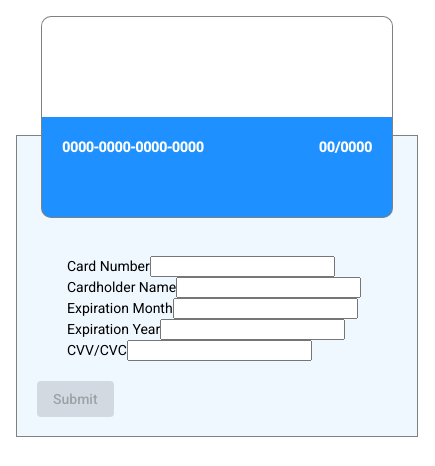
Test: Cardholder Name input › TC01 - when input is noting should show error massage
Click the field with id "name-input": (269, 288) [176,277,361,298]
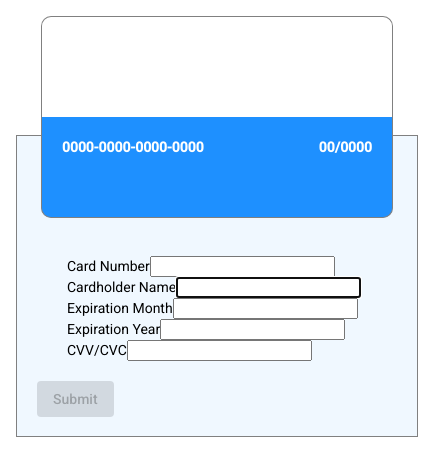
Click the number field with id "month-input": (266, 309) [173,298,358,319]
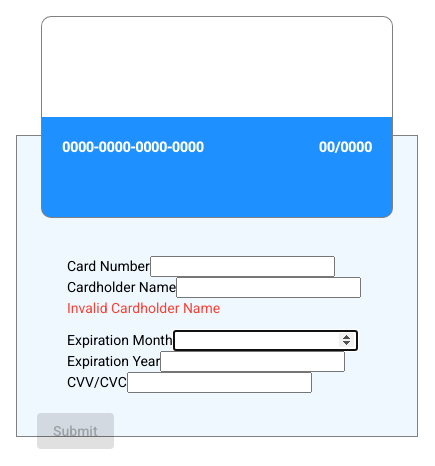
Expected: the text with id "name-input-error" reads "Invalid Cardholder Name", [67,300,220,316]
